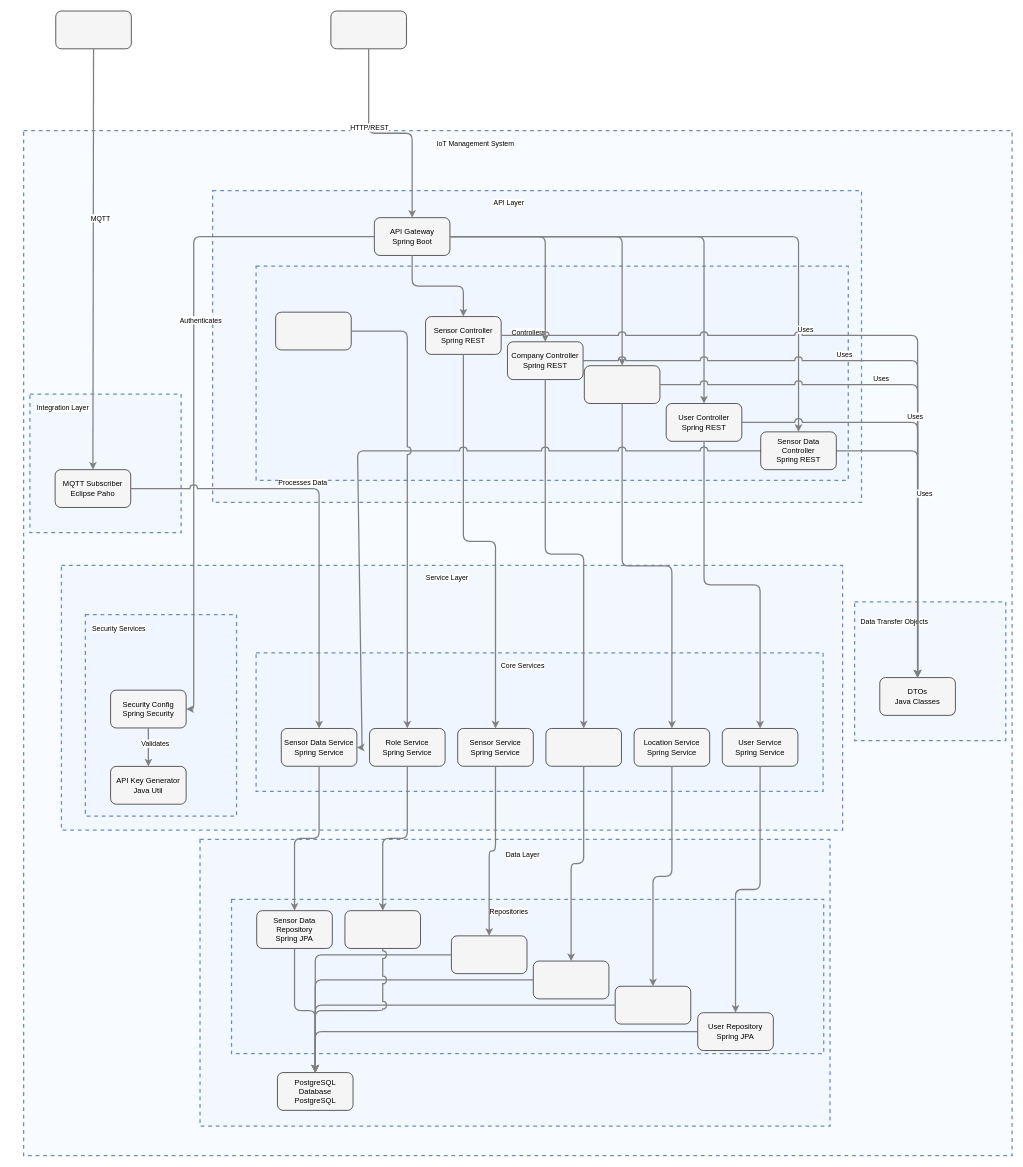
The diagram is 1023 pixels wide and 1167 high, and some of its shapes have lost their labels. The centre of each missing label's shape, as x and y in pixels:
"Company Repository Spring JPA" belongs at pixel 571 979.
"Company Service Spring Service" belongs at pixel 583 747.
"External User" belongs at pixel 368 29.
"IoT Device" belongs at pixel 93 29.
"Location Controller Spring REST" belongs at pixel 622 384.
"Location Repository Spring JPA" belongs at pixel 653 1005.
"Role Controller Spring REST" belongs at pixel 313 331.
"Role Repository Spring JPA" belongs at pixel 382 929.
"Sensor Repository Spring JPA" belongs at pixel 489 954.
